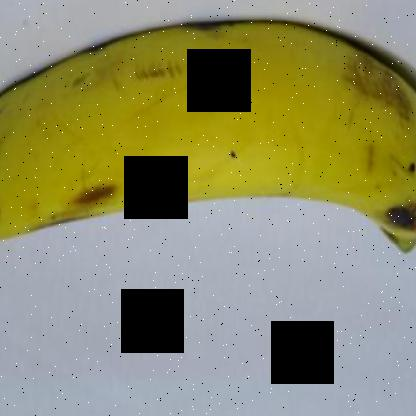freshripe: (0, 1, 415, 272)
